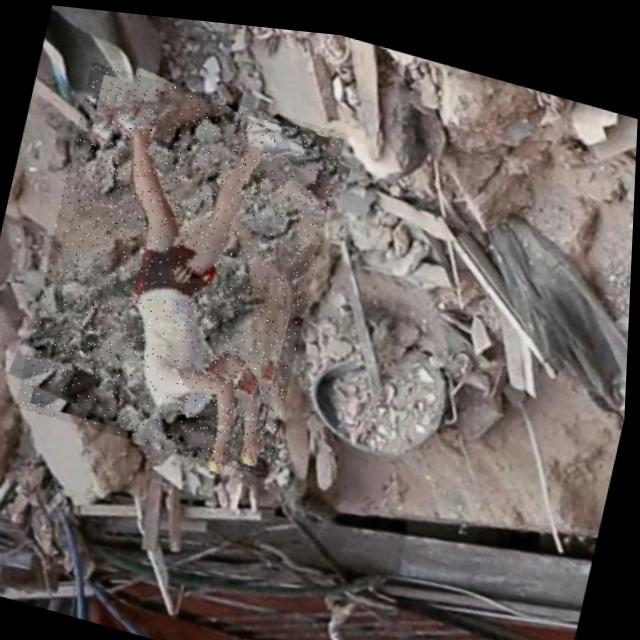Person in Rubble: (17, 53, 348, 476)
